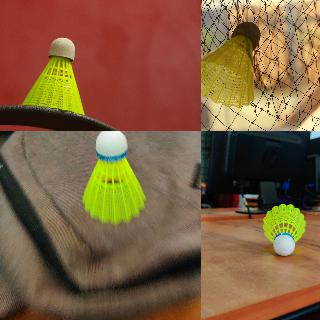shuttlecock: (81, 131, 148, 225), (201, 21, 261, 107), (22, 38, 84, 114), (262, 203, 306, 255)
